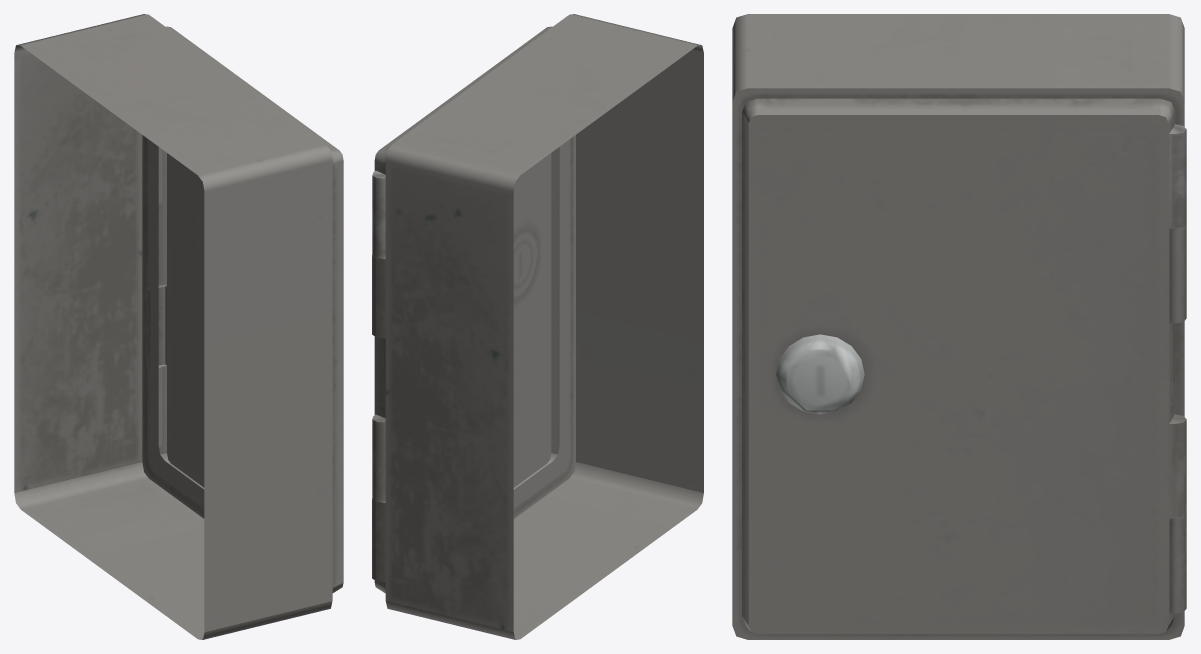
The model's file is SM_FuseBox_02.FBX.
3 renders of one model, left to right at view 1: azimuth 30°, elevation 25°; view 2: azimuth 150°, elevation 25°; view 3: azimuth 270°, elevation 25°, orthographic. The views are drawn at different scales.
Visible parts, largest first — view 1: SM_FuseBox_02; view 2: SM_FuseBox_02; view 3: SM_FuseBox_02.
Part boxes in pixels (bbox=[...]): SM_FuseBox_02: bbox=[14, 14, 343, 639]; SM_FuseBox_02: bbox=[372, 14, 703, 639]; SM_FuseBox_02: bbox=[732, 14, 1186, 639].
Size of what is drawn, in the model's own units: 15.73 by 33.4 by 44.77.
